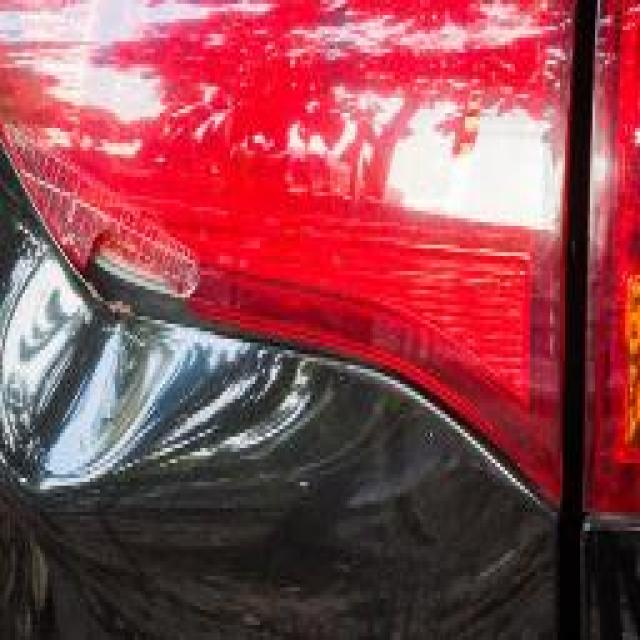Bumper: (0, 108, 495, 640)
Light: (0, 3, 333, 364)
